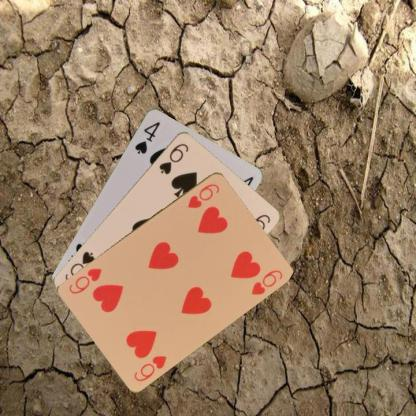4s: (132, 118, 161, 155)
6h: (131, 352, 168, 382), (185, 180, 221, 210)
6s: (156, 140, 190, 176)
